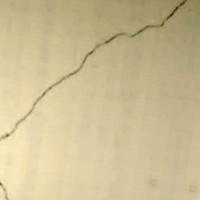crack: (0, 2, 197, 152)
